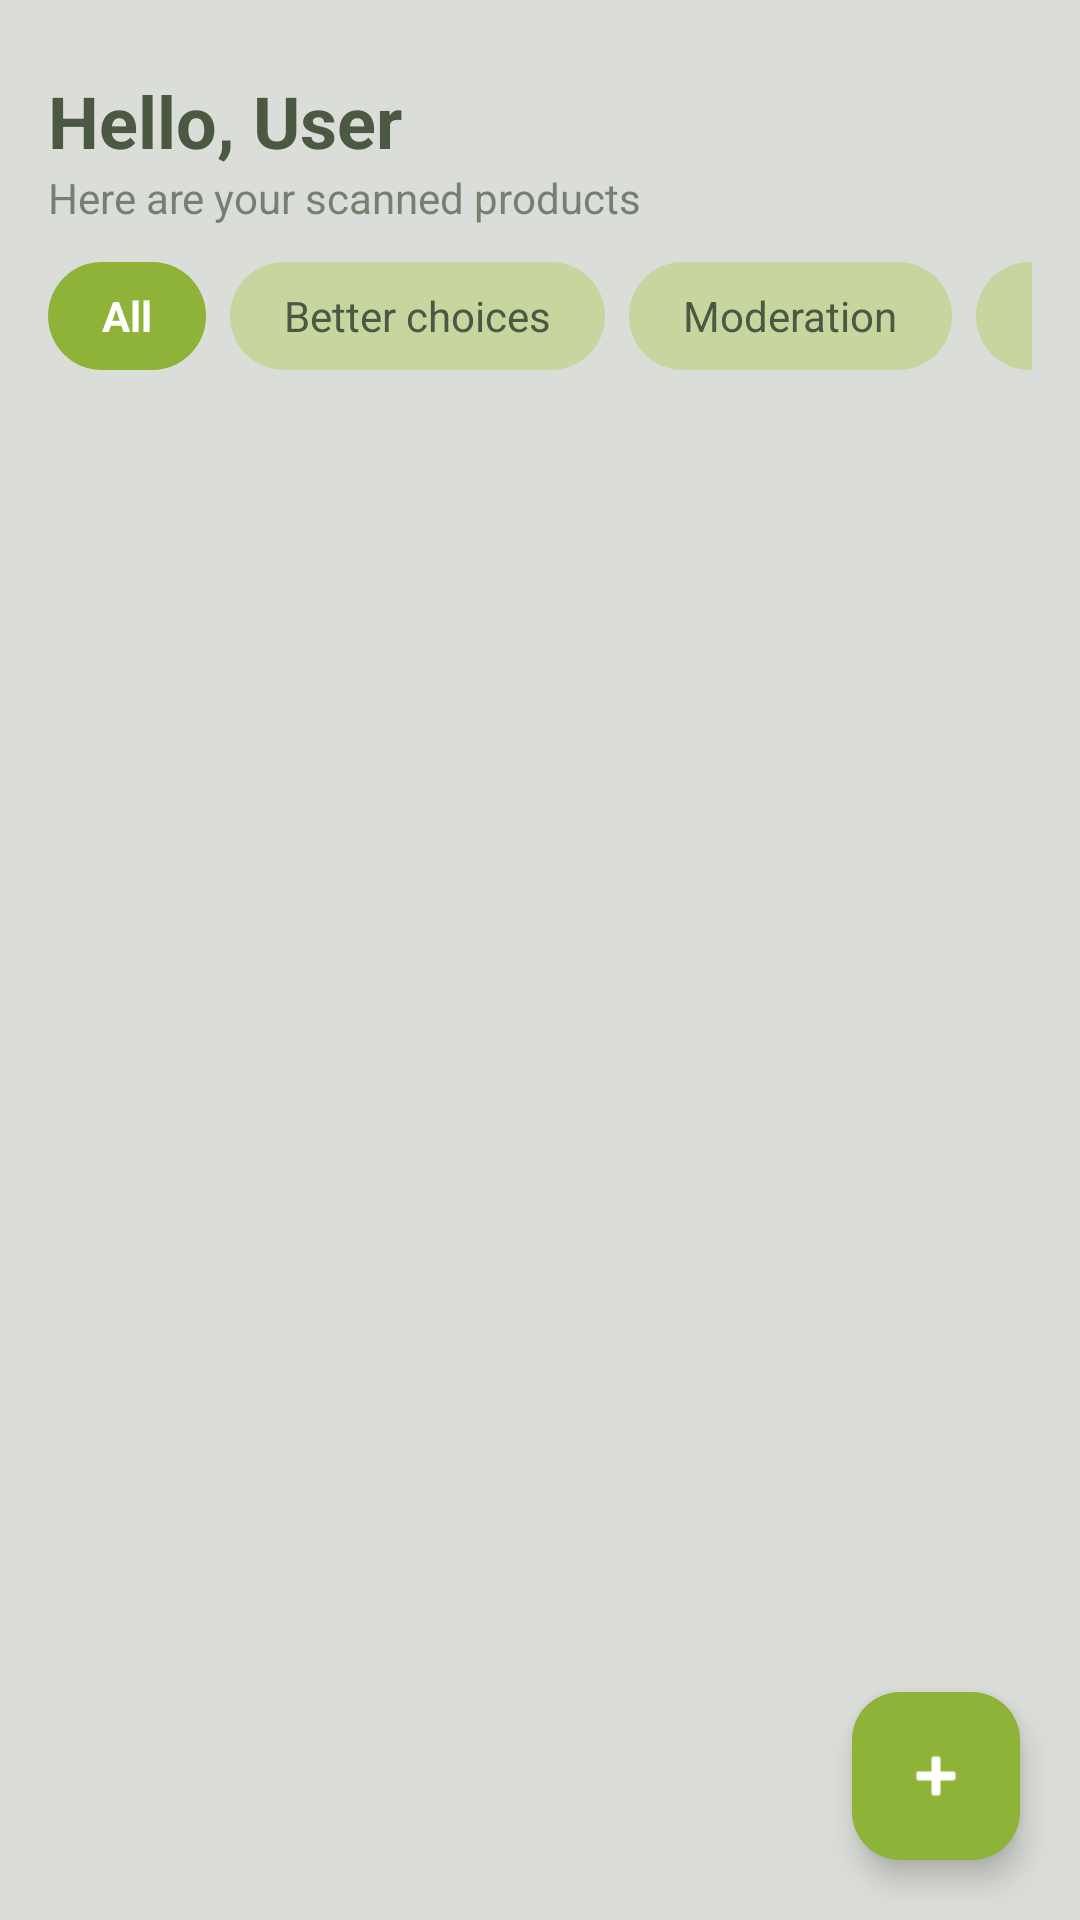

Screen size 1080*1920. Icon name, then its center in pixels as point (x, y):
Add product: point (936, 1776)
